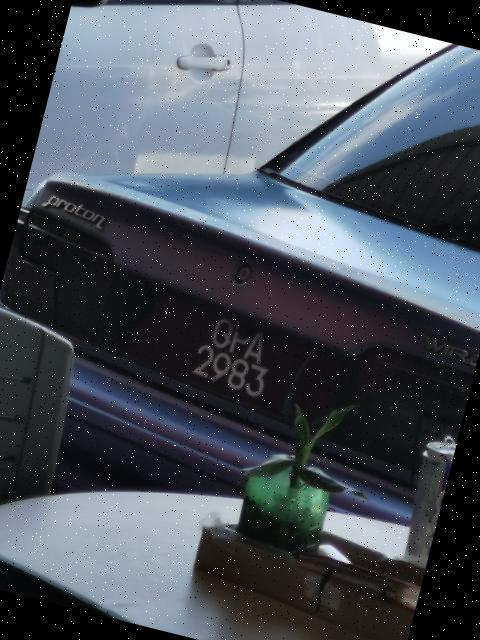License_Plate: (180, 309, 288, 407)
car: (1, 1, 480, 559)
